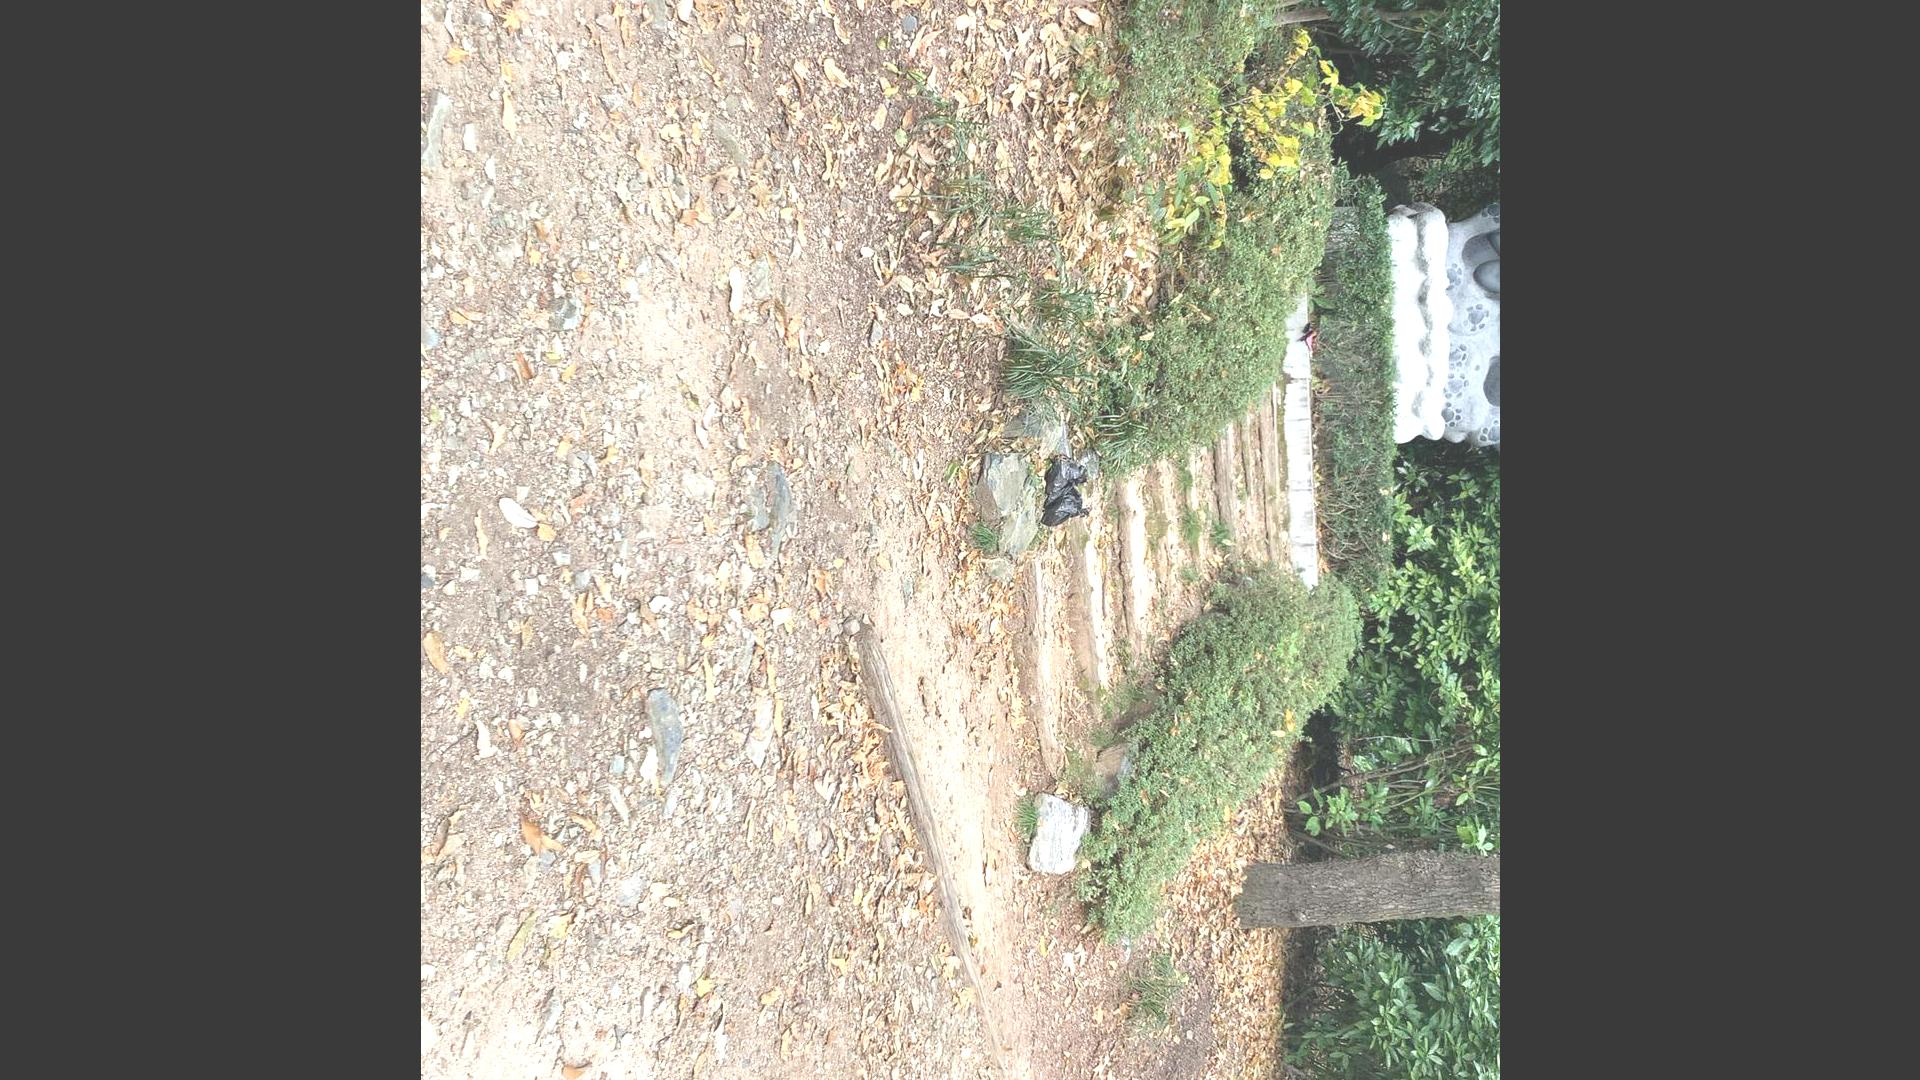black_bag: (1043, 447, 1092, 501), (1040, 487, 1095, 527)
